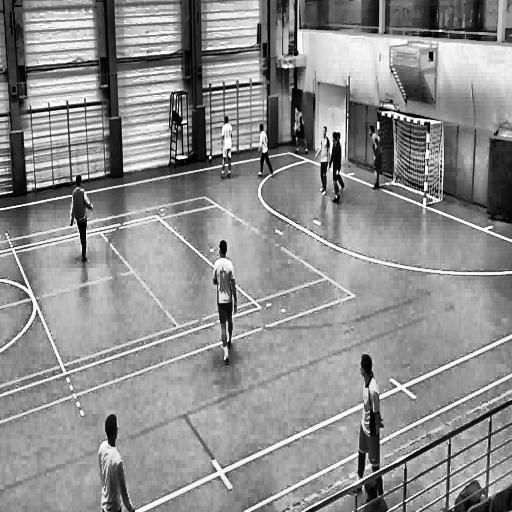ball: (208, 151, 214, 166)
player: (354, 352, 384, 500), (97, 411, 135, 512), (213, 239, 237, 367), (70, 173, 94, 265), (314, 124, 330, 198), (367, 123, 382, 193), (256, 124, 275, 179), (330, 130, 343, 210), (292, 107, 310, 158), (220, 115, 233, 183)
